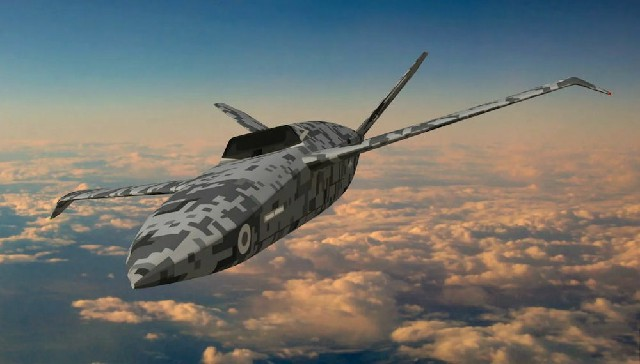maybay_khongnguoilai: (59, 64, 608, 285)
